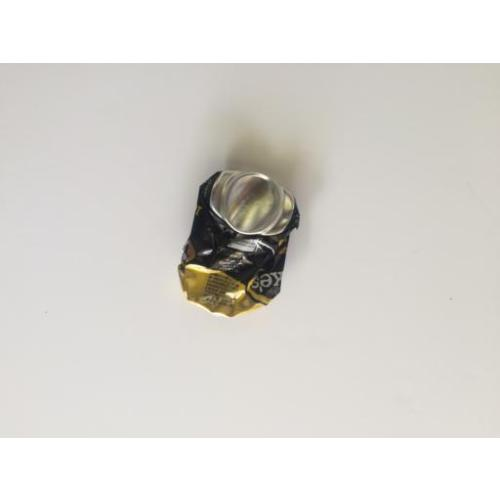metal: (180, 171, 299, 319)
